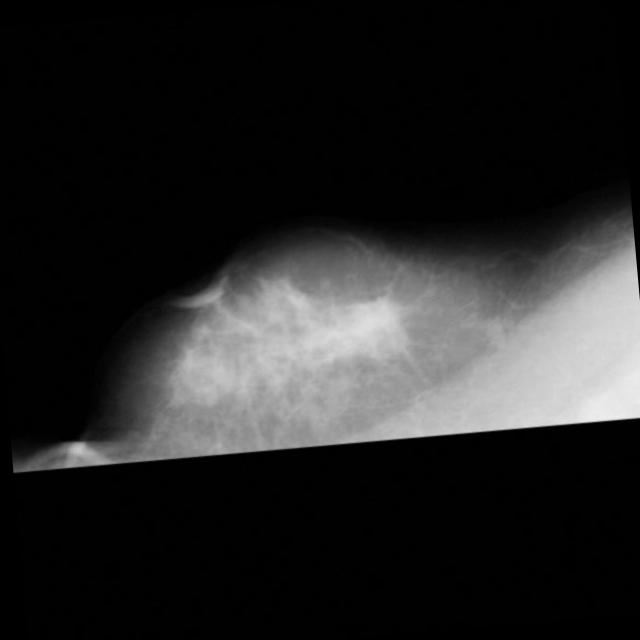SPIC: (328, 280, 424, 374)
